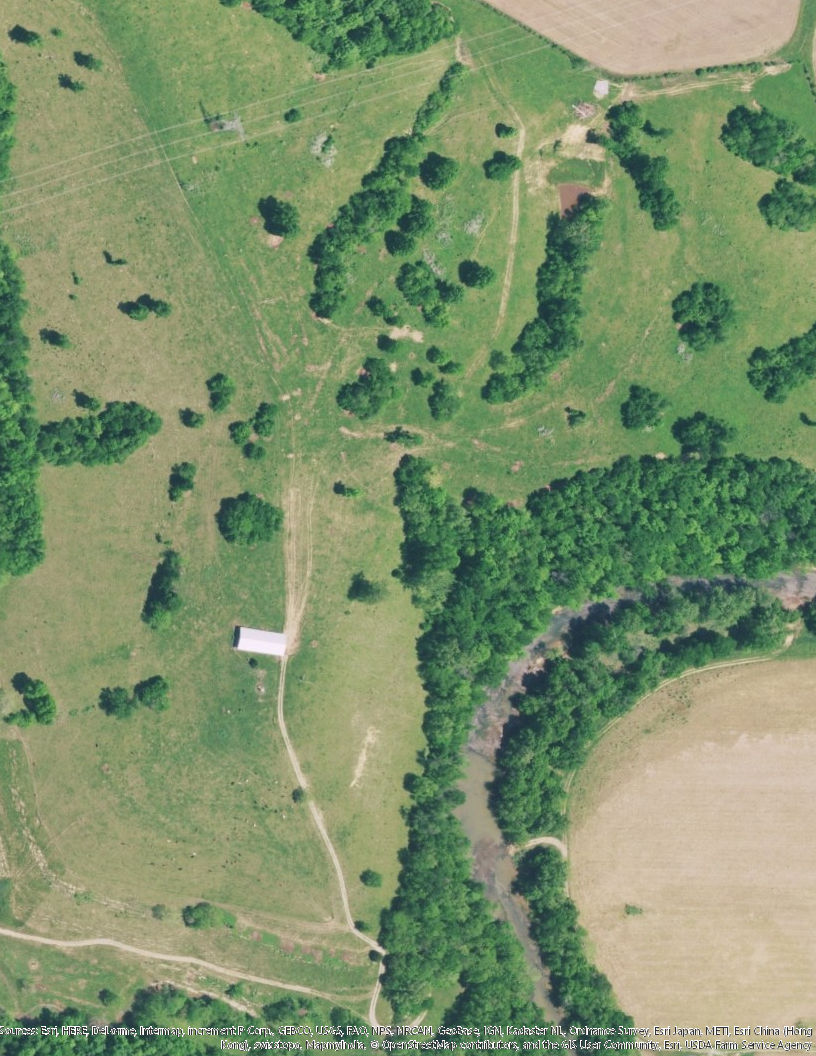cafo: (232, 624, 290, 663)
